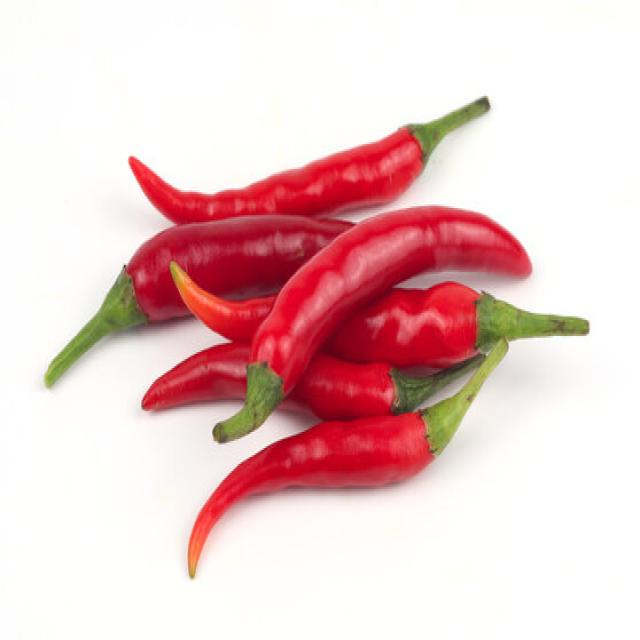Chilli: (186, 334, 508, 578), (209, 202, 532, 442), (44, 212, 356, 388), (127, 92, 491, 224), (168, 258, 590, 366), (140, 338, 485, 421)
